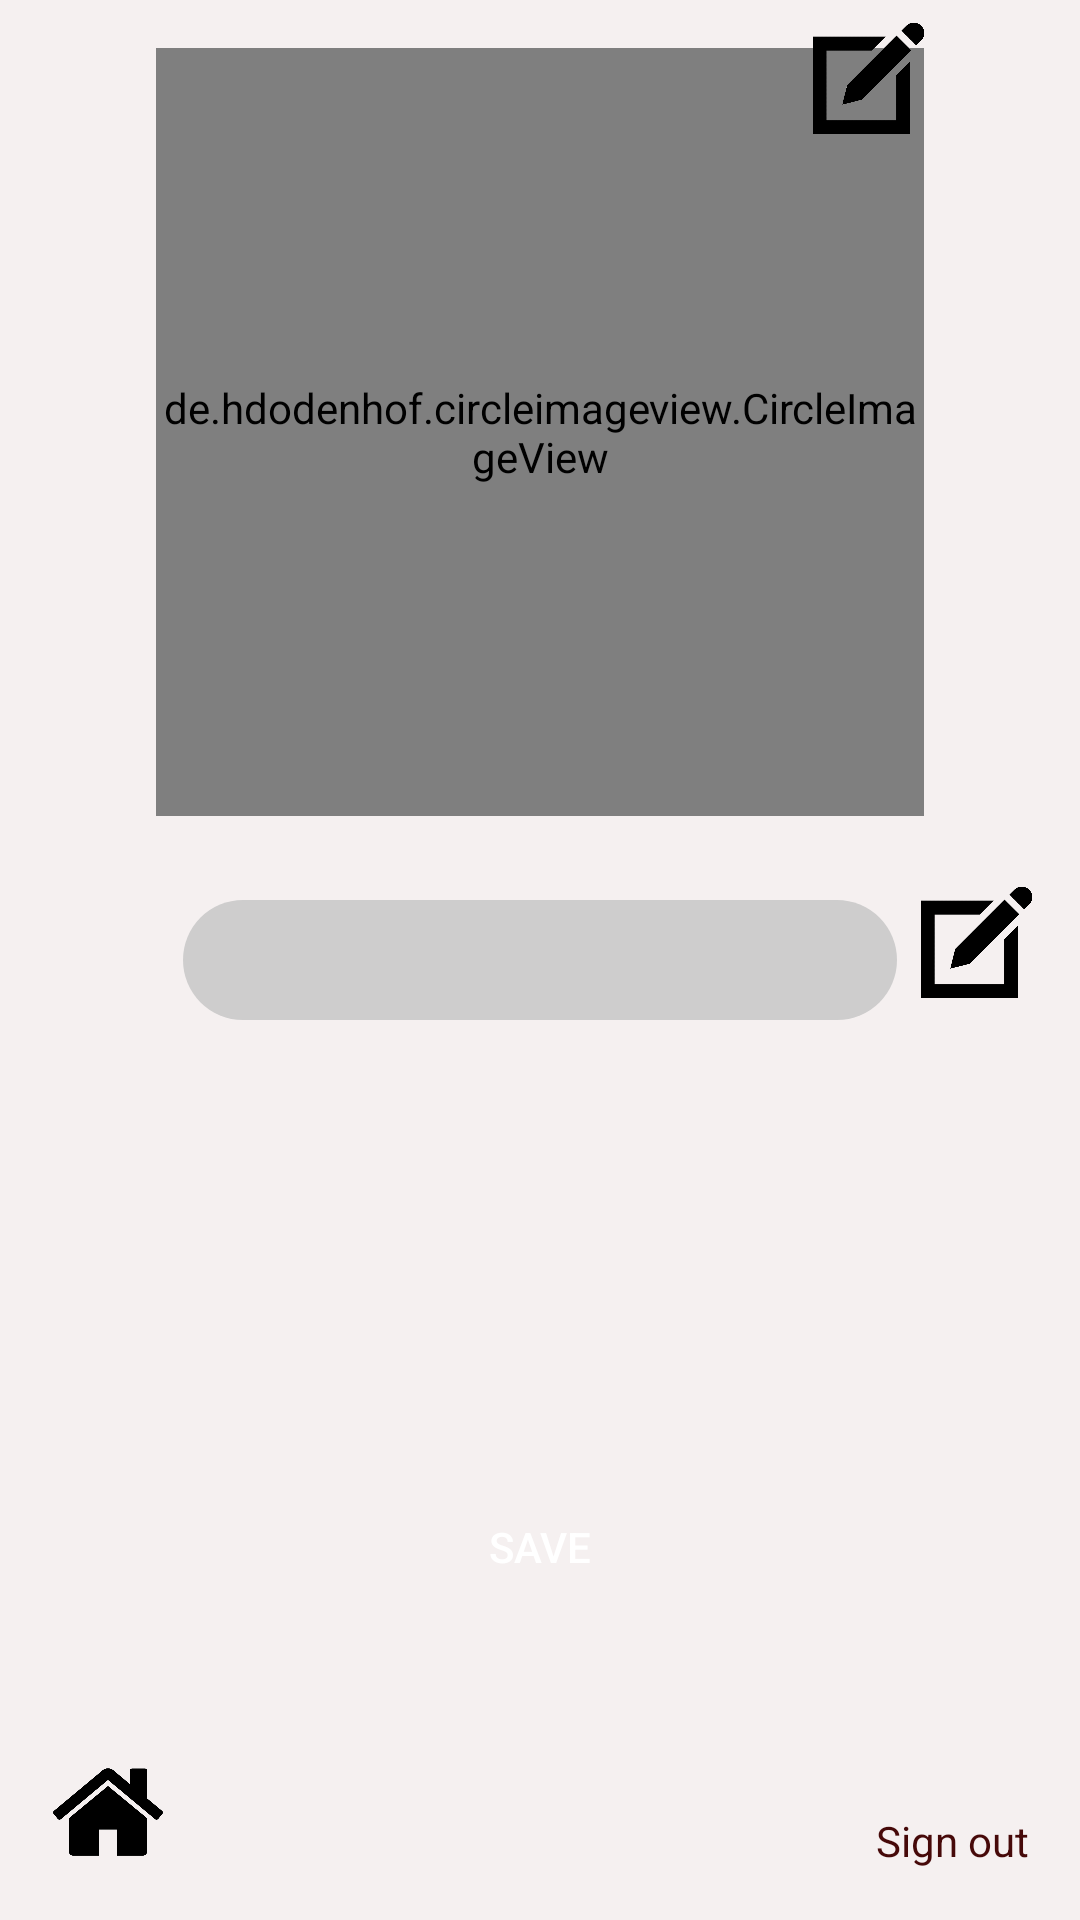

Named icons in this screenshot (1080px×1920px) and their centers, (x=x, y=y):
edit: (x=868, y=78), (x=976, y=942)
home: (x=108, y=1812)
